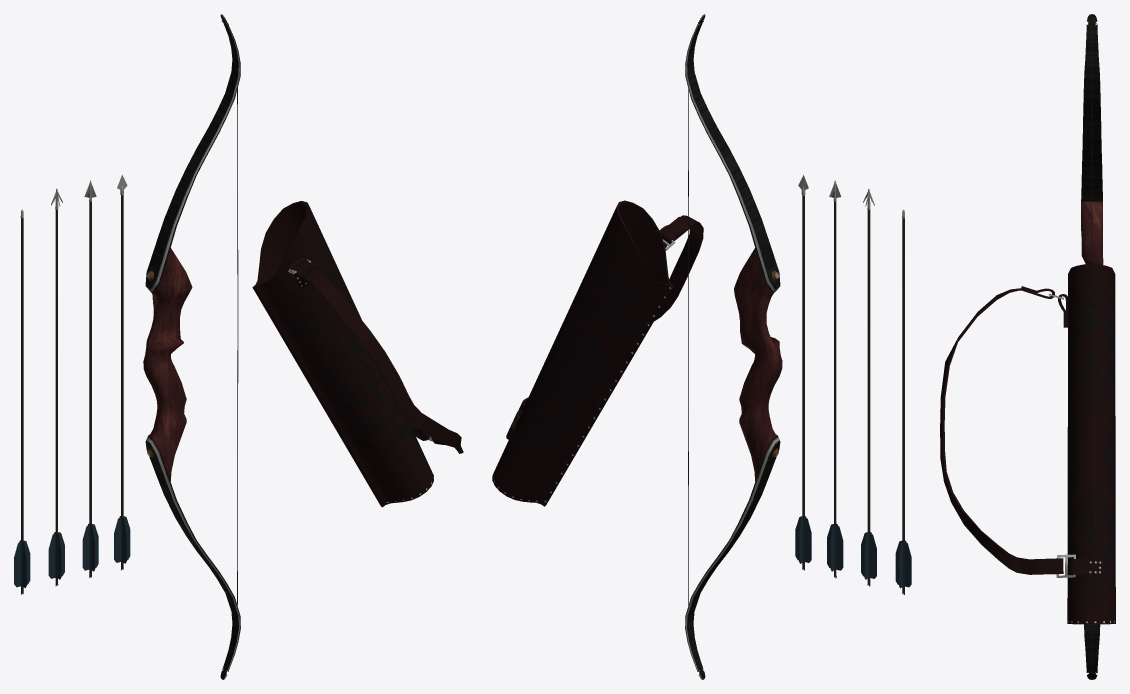
File: baru.fbx
3 renders of one model, left to right at view 1: azimuth 30°, elevation 25°; view 2: azimuth 150°, elevation 25°; view 3: azimuth 270°, elevation 25°, orthographic.
Visible parts, largest first — view 1: Object_2; view 2: Object_2; view 3: Object_2.
Part boxes in pixels (x1,y1,x2,y2): Object_2: [14, 14, 463, 679]; Object_2: [492, 14, 911, 679]; Object_2: [940, 14, 1115, 679].
Bounding box in the file's own units: 315 × 481 × 115.
1 material, 1 textured.
